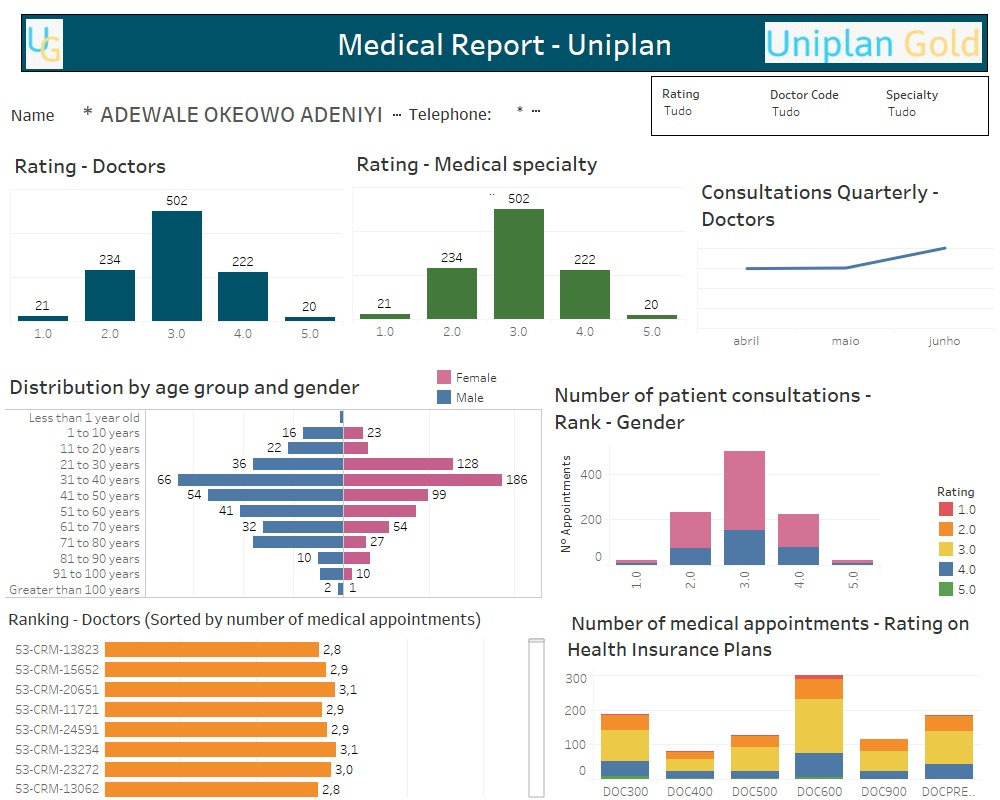

This screenshot's page, from the dashboard's own definition file:
{"tool":"tableau","page":{"name":"Painel 1","canvas":[1000,800],"ordinal":0},"visuals":[{"type":"text","box":[21,14,967,58]},{"type":"image","param":"Image/WhatsApp Image 2019-03-31 at 07.42.13.jpeg","box":[26,19,37,51]},{"type":"image","param":"Image/WhatsApp Image 2019-03-31 at 07.44.28.jpeg","box":[765,22,217,47]},{"type":"worksheet","title":"Filtros","mark":"Automatic","box":[651,76,338,60]},{"type":"filter","title":"Filtros","param":"[federated.008h3o91rtugsz195szv90r80mm4].[none:Rating:nk]","box":[662,84,94,43]},{"type":"filter","title":"Filtros","param":"[federated.008h3o91rtugsz195szv90r80mm4].[none:Doctor:nk]","box":[770,85,104,43]},{"type":"filter","title":"Filtros","param":"[federated.008h3o91rtugsz195szv90r80mm4].[none:Specialty:nk]","box":[886,85,98,44]},{"type":"text","box":[8,99,63,44]},{"type":"text","box":[427,100,95,47]},{"type":"worksheet","title":"Nome Médico","mark":"Automatic","box":[59,104,365,44]},{"type":"worksheet","title":"Telefone","mark":"Automatic","box":[516,104,128,36]},{"type":"worksheet","title":"Visão Especialidade","mark":"Bar","rows":["Calculation_311874317192142849"],"cols":["Rating"],"box":[352,143,333,197]},{"type":"worksheet","title":"Visão Médico","mark":"Bar","rows":["Calculation_311874317192142849"],"cols":["Rating"],"box":[10,145,333,197]},{"type":"text","box":[16,157,952,54]},{"type":"worksheet","title":"Consultas - Trimestre - Médico","mark":"Automatic","rows":["Calculation_311874317191929856"],"cols":["Date of Service"],"box":[697,171,297,178]},{"type":"worksheet","title":"Distribuition by age","mark":"Automatic","rows":["Calculation_510595650769170432"],"cols":["Calculation_510595650773430277","Calculation_510595650772996099"],"box":[5,366,538,232]},{"type":"legend","title":"Rank - Gender","param":"[federated.008h3o91rtugsz195szv90r80mm4].[:Measure Names]","box":[434,367,109,41]},{"type":"worksheet","title":"Rank - Gender","mark":"Automatic","cols":["Rating"],"box":[550,374,330,231]},{"type":"legend","title":"Health on insurance plans","param":"[federated.008h3o91rtugsz195szv90r80mm4].[none:Rating:nk]","box":[936,481,58,122]},{"type":"worksheet","title":"Médicos  - Relation Note and visits","mark":"Automatic","rows":["Doctor"],"cols":["Calculation_510595650777559046"],"box":[4,602,541,195]},{"type":"worksheet","title":"Health on insurance plans","mark":"Automatic","rows":["Calculation_311874317191929856"],"cols":["Health Insurance - Plan"],"box":[563,603,418,197]}]}

Visuals, with their boxes in screenshot pixels (x1, y1, x2, y2), scaled from the page's 1000x800 canvas onto the 1000x800 screenshot:
text: bbox=[21, 14, 988, 72]
image: bbox=[26, 19, 63, 70]
image: bbox=[765, 22, 982, 69]
"Filtros" worksheet: bbox=[651, 76, 989, 136]
"Filtros" filter: bbox=[662, 84, 756, 127]
"Filtros" filter: bbox=[770, 85, 874, 128]
"Filtros" filter: bbox=[886, 85, 984, 129]
text: bbox=[8, 99, 71, 143]
text: bbox=[427, 100, 522, 147]
"Nome Médico" worksheet: bbox=[59, 104, 424, 148]
"Telefone" worksheet: bbox=[516, 104, 644, 140]
"Visão Especialidade" worksheet (Bar marks): bbox=[352, 143, 685, 340]
"Visão Médico" worksheet (Bar marks): bbox=[10, 145, 343, 342]
text: bbox=[16, 157, 968, 211]
"Consultas - Trimestre - Médico" worksheet: bbox=[697, 171, 994, 349]
"Distribuition by age" worksheet: bbox=[5, 366, 543, 598]
"Rank - Gender" legend: bbox=[434, 367, 543, 408]
"Rank - Gender" worksheet: bbox=[550, 374, 880, 605]
"Health on insurance plans" legend: bbox=[936, 481, 994, 603]
"Médicos  - Relation Note and visits" worksheet: bbox=[4, 602, 545, 797]
"Health on insurance plans" worksheet: bbox=[563, 603, 981, 799]
